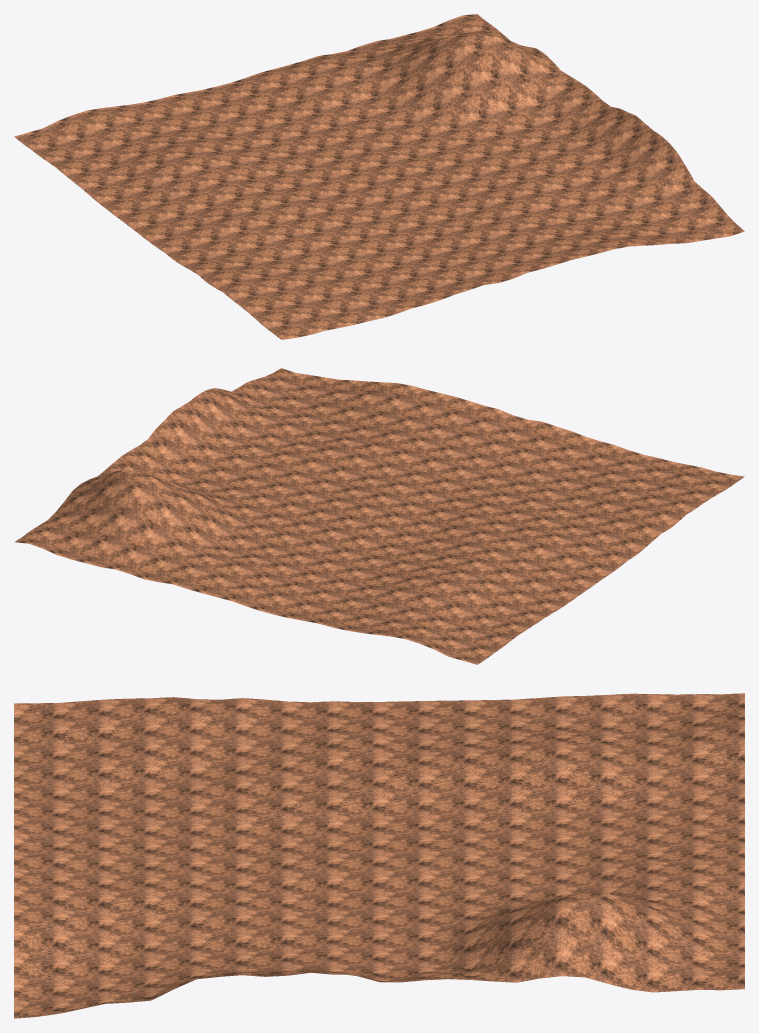
The model's file is terrain_03_04.dae.
3 views of the same model, one above another, from view 1: azimuth 30°, elevation 25°; view 2: azimuth 150°, elevation 25°; view 3: azimuth 270°, elevation 25° (orthographic). The views are drawn at different scales.
Visible parts, largest first — view 1: terrain_03_04-node; view 2: terrain_03_04-node; view 3: terrain_03_04-node.
Part boxes in pixels (x1=…): terrain_03_04-node: x1=14, y1=14, x2=744, y2=339; terrain_03_04-node: x1=14, y1=368, x2=744, y2=664; terrain_03_04-node: x1=14, y1=693, x2=744, y2=1018.
Bounding box in the file's own units: 128 × 128 × 15.87.
1 material, 1 textured.
